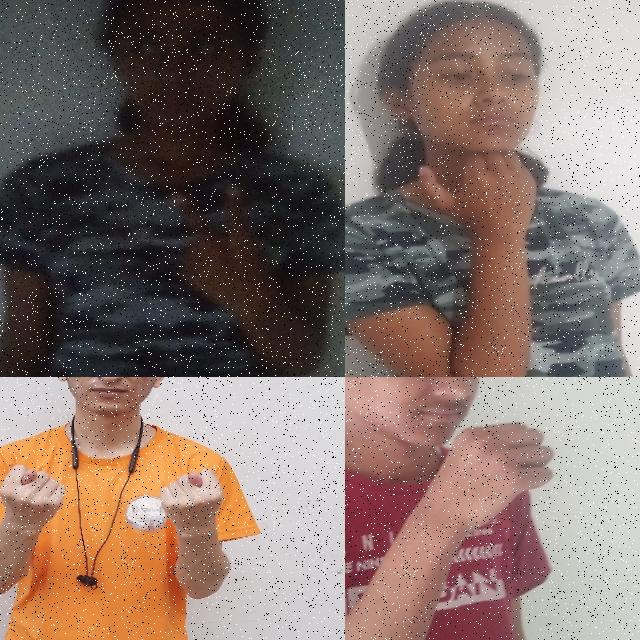Chin Flick: (369, 0, 568, 307)
Dulya: (156, 457, 232, 545), (0, 453, 69, 544)
Fist Mouth: (345, 377, 585, 564)
Reversed Victory: (162, 176, 274, 330)
